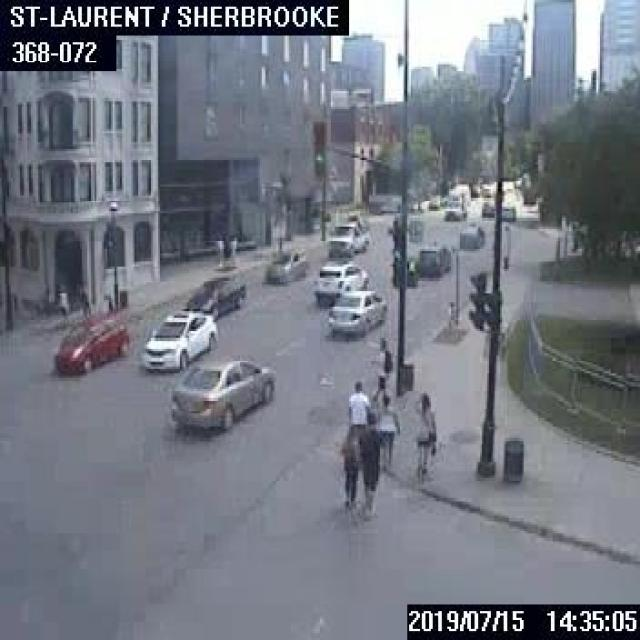pedestrian: (359, 413, 380, 516), (411, 391, 434, 473), (369, 336, 393, 404), (340, 423, 358, 506), (378, 394, 398, 464), (346, 380, 370, 428), (54, 285, 67, 321), (78, 284, 89, 318)
vehicle: (168, 360, 272, 430), (141, 308, 216, 369), (53, 317, 128, 373), (324, 288, 384, 334), (186, 276, 244, 318), (312, 264, 368, 302), (263, 246, 307, 282), (327, 218, 367, 254), (415, 244, 450, 276), (443, 182, 469, 218), (458, 224, 483, 247), (500, 203, 515, 220), (480, 200, 494, 216)
